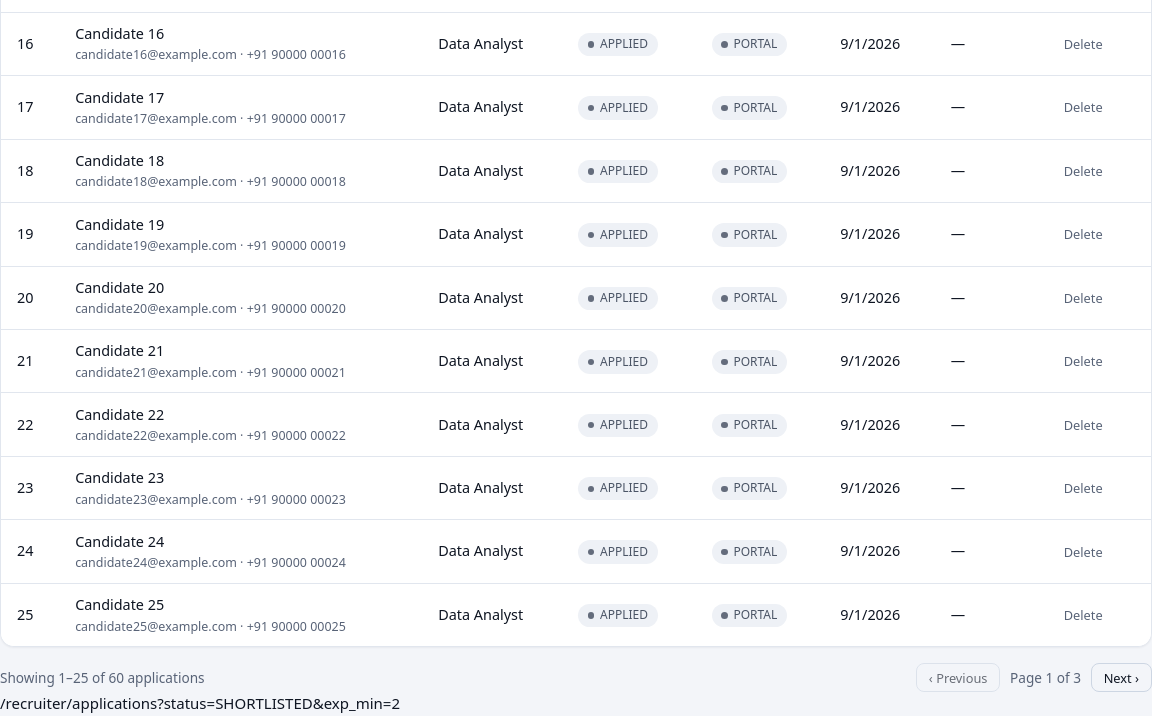
Scenario: ApplicationsPage — server-side search and filters › pages through results while filters stay active
The width and height of the screenshot is (1152, 716).
(page scrolled)
Expected: the text "Showing 1–25 of 60 applications" is shown, x1=0 y1=667 x2=204 y2=688
Expected: the text "Page 1 of 3" is shown, x1=1010 y1=667 x2=1081 y2=688
Click the button with aria-label "Next page" at (1121, 678), box x1=1091 y1=663 x2=1151 y2=692
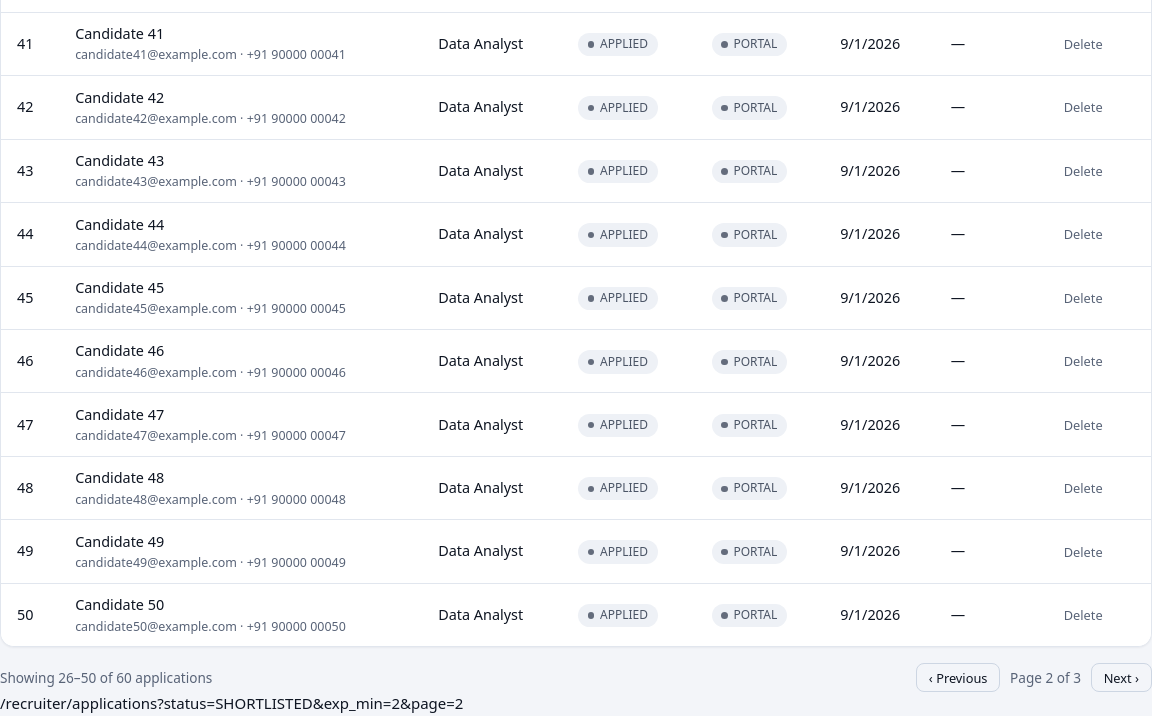
Now the text "Showing 26–50 of 60 applications" is shown, box x1=0 y1=667 x2=212 y2=688
Now the text with test id "location" reads "/recruiter/applications?status=SHORTLISTED&exp_min=2&page=2", box x1=0 y1=694 x2=463 y2=714
Click the button with aria-label "Next page" at (1121, 678), box x1=1091 y1=663 x2=1151 y2=692
(page scrolled)
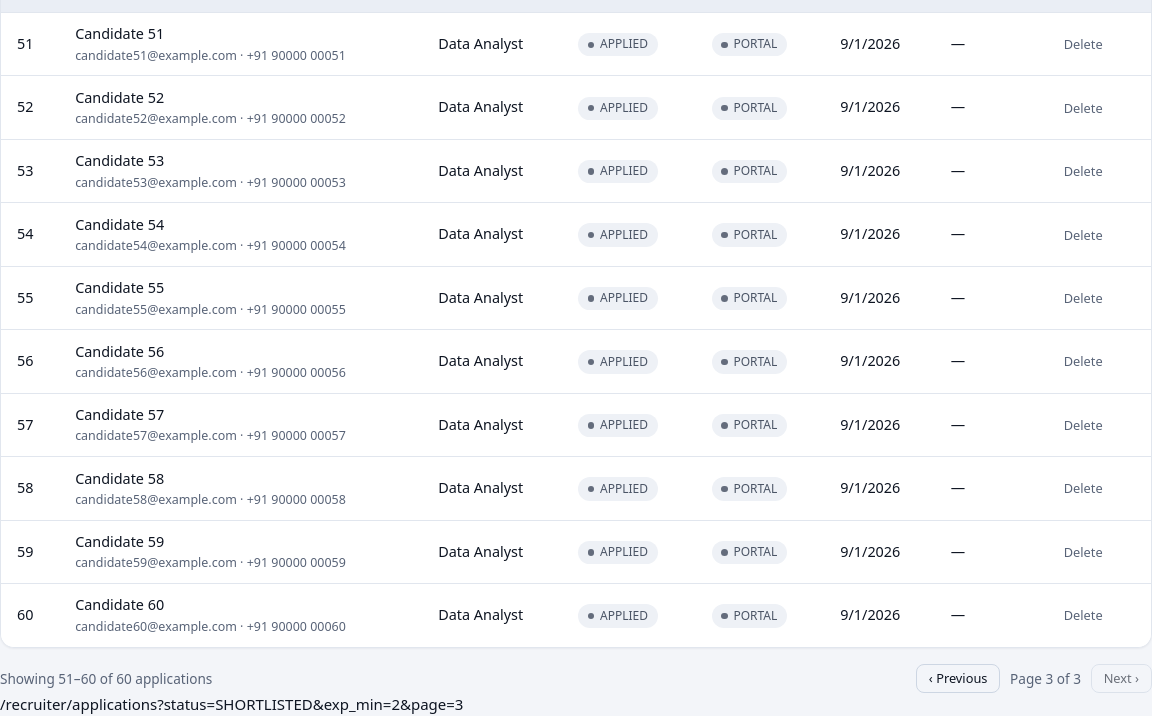
Now the text "Showing 51–60 of 60 applications" is shown, box x1=0 y1=668 x2=212 y2=689
Now the button with aria-label "Next page" is disabled, box x1=1091 y1=664 x2=1151 y2=693
Click the button with aria-label "Previous page" at (958, 678), box x1=916 y1=664 x2=1000 y2=693
(page scrolled)
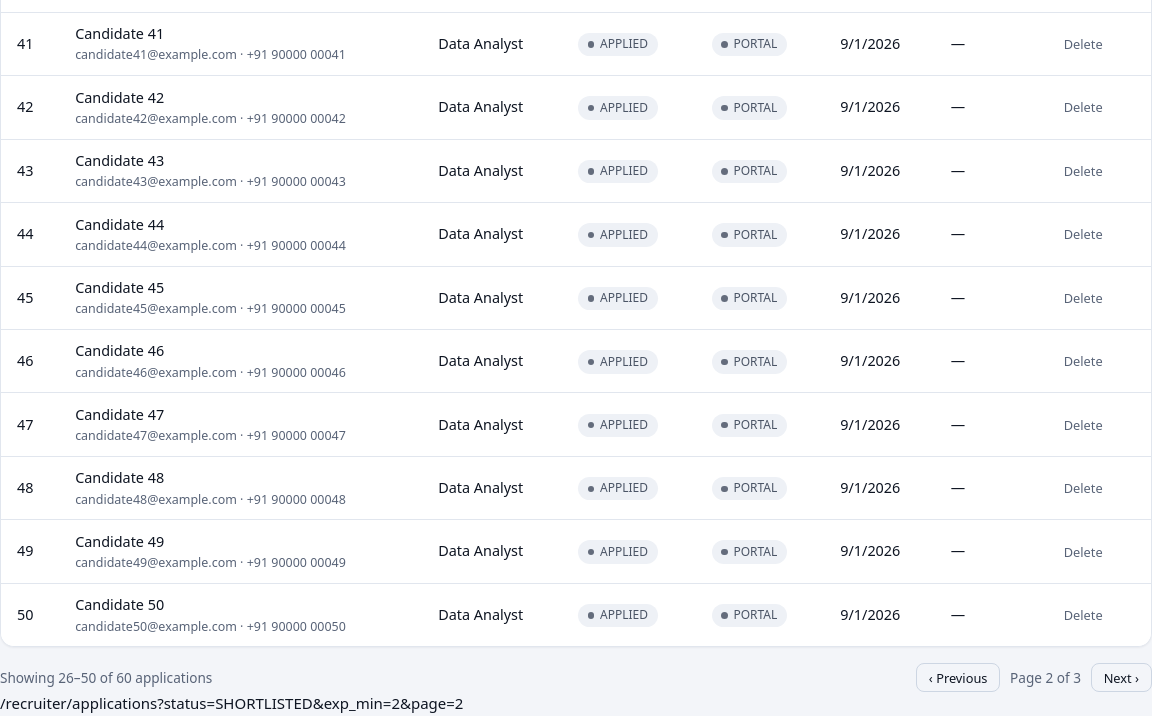
Now the text "Showing 26–50 of 60 applications" is shown, box x1=0 y1=667 x2=212 y2=688
